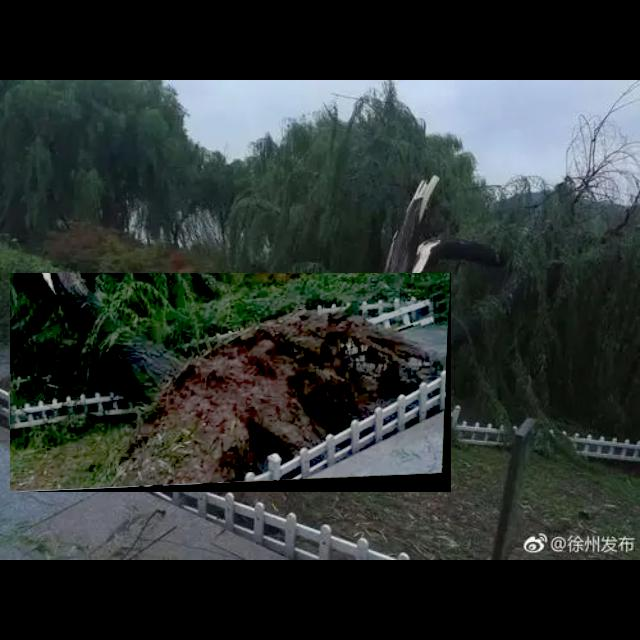Fallen Tree: (10, 273, 452, 493)
